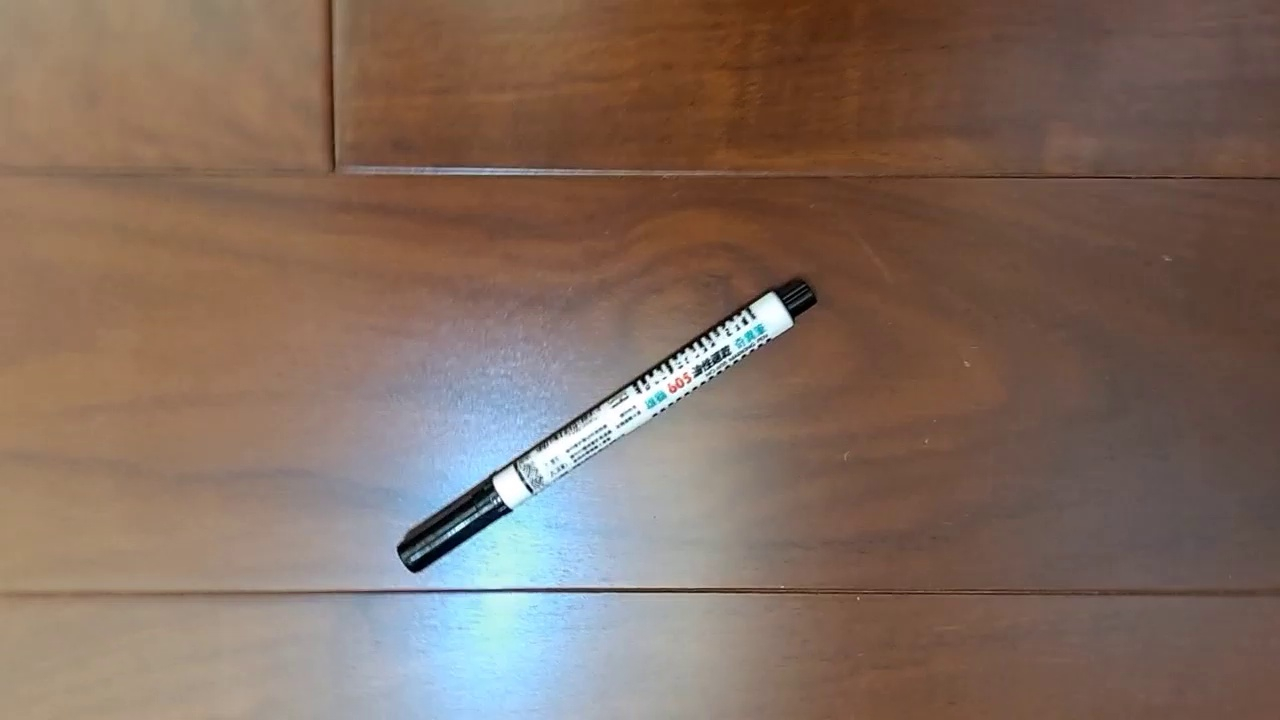pen: (396, 275, 819, 574)
